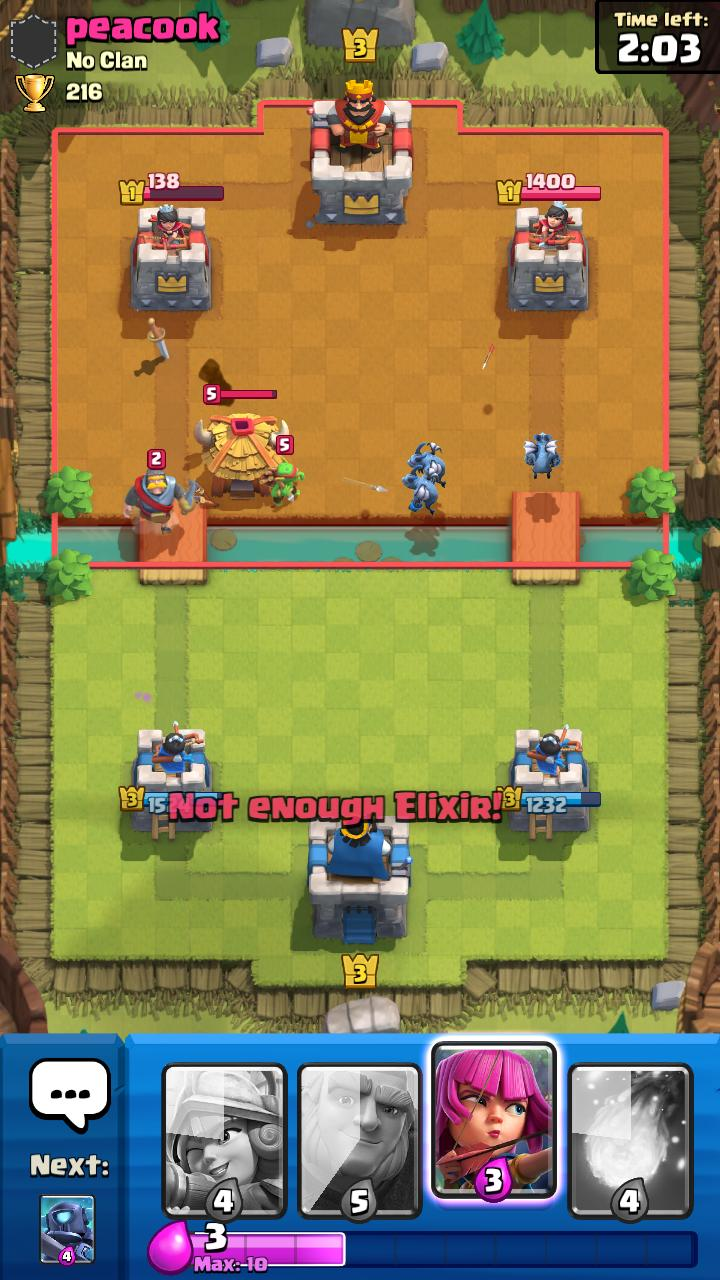ally: (407, 442, 447, 488), (402, 465, 438, 516), (522, 432, 561, 479)
enemy: (187, 384, 289, 508), (123, 449, 197, 535), (259, 435, 305, 506)
